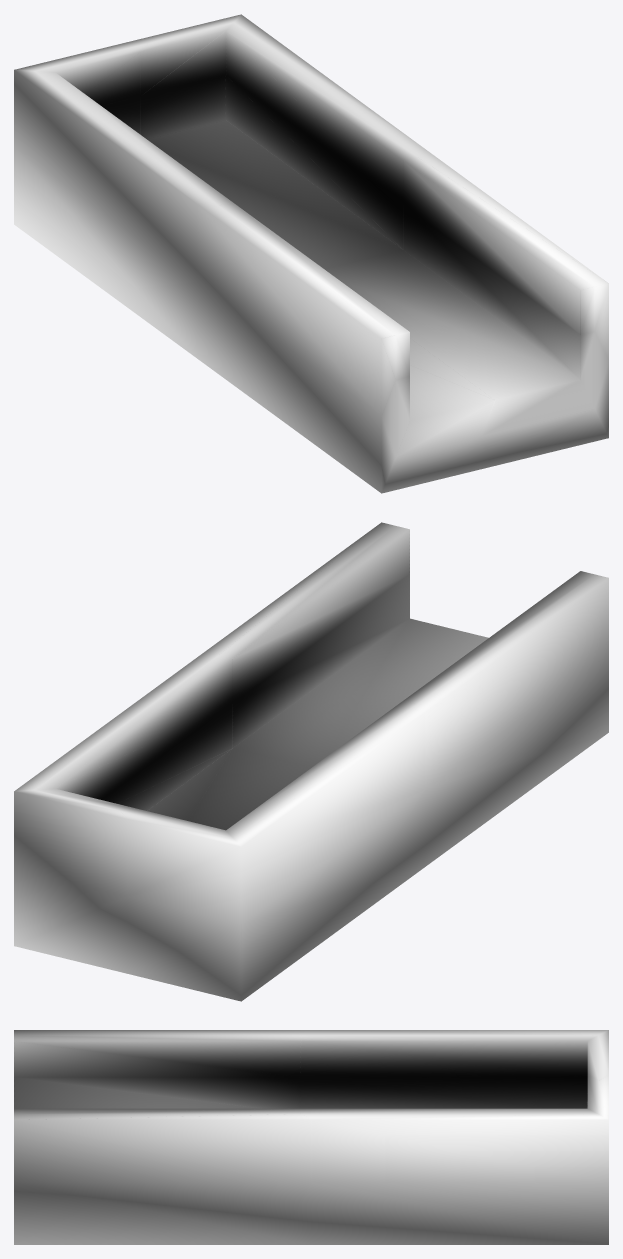
3 views of the same model, one above another, from view 1: azimuth 30°, elevation 25°; view 2: azimuth 150°, elevation 25°; view 3: azimuth 270°, elevation 25° (orthographic). The views are drawn at different scales.
Parts seen in each view (by area): view 1: defaultobject; view 2: defaultobject; view 3: defaultobject.
Boxes of the visible parts, x1,y1,x2,y2 form: defaultobject: (14, 14, 608, 493); defaultobject: (14, 522, 608, 1001); defaultobject: (14, 1030, 608, 1244).
Bounding box in the file's own units: 0.25 × 0.1625 × 0.7.
Materials: 1 (1 with a texture image).
